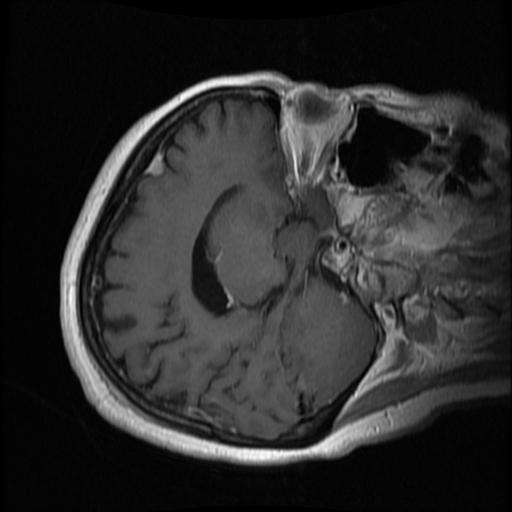meningioma: (145, 153, 163, 176)
